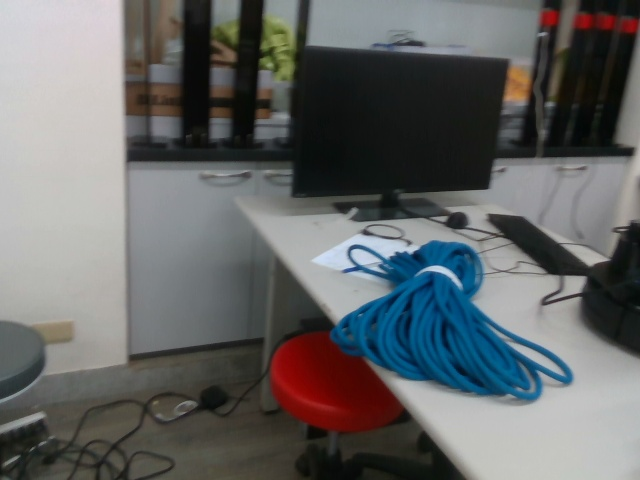rope: (328, 238, 577, 404)
